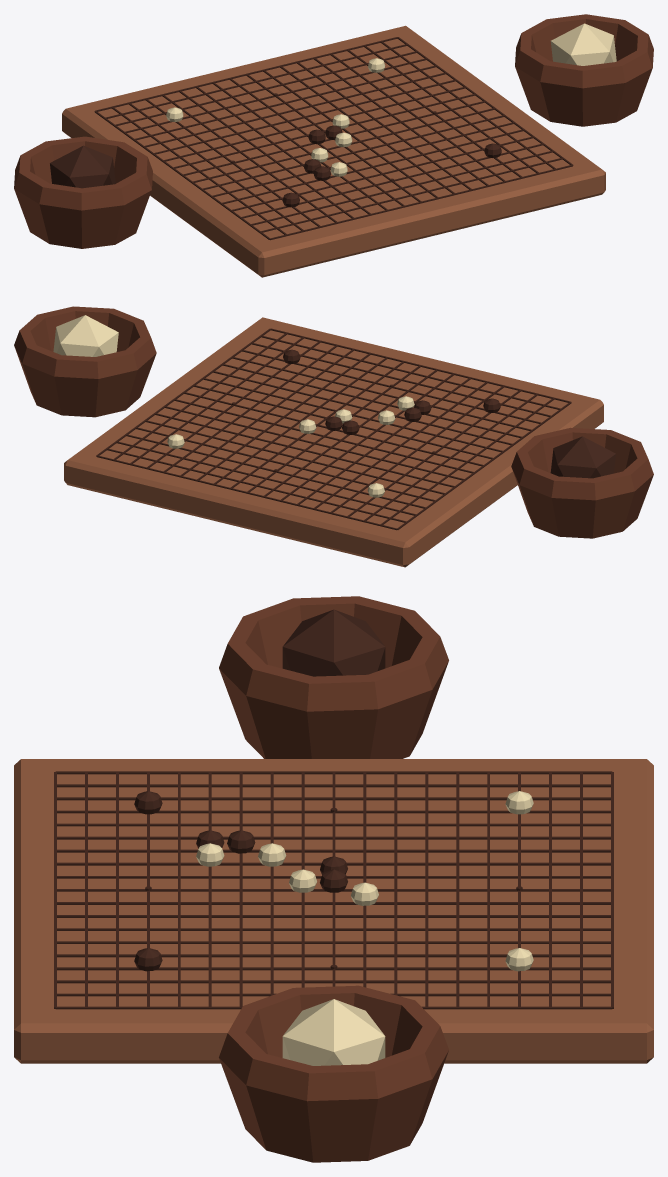
Rendered from go_board.glb.
3 views of the same model, one above another, from view 1: azimuth 30°, elevation 25°; view 2: azimuth 150°, elevation 25°; view 3: azimuth 270°, elevation 25° (orthographic). The views are drawn at different scales.
Visible parts, largest first — view 1: Board, N_19x19Grid, Bowl, Bowl_001, Reserve, Reserve_001; view 2: Board, N_19x19Grid, Bowl_001, Bowl, Reserve_001, Reserve; view 3: Board, N_19x19Grid, Bowl_001, Bowl, Reserve, Reserve_001.
Part boxes in pixels (x1,y1,x2,y2): Board: [62, 25, 605, 277]; N_19x19Grid: [94, 37, 573, 240]; Bowl: [14, 136, 152, 248]; Bowl_001: [515, 14, 653, 126]; Reserve: [50, 145, 115, 188]; Reserve_001: [550, 23, 616, 65]; Board: [64, 317, 603, 567]; N_19x19Grid: [96, 328, 571, 530]; Bowl_001: [14, 306, 156, 417]; Bowl: [511, 427, 653, 538]; Reserve_001: [53, 315, 118, 356]; Reserve: [550, 436, 615, 478]; Board: [14, 759, 653, 1063]; N_19x19Grid: [54, 771, 613, 1009]; Bowl_001: [219, 985, 448, 1162]; Bowl: [219, 596, 448, 758]; Reserve: [282, 609, 385, 676]; Reserve_001: [282, 999, 385, 1065].
Size of the model in its own units: 1.29 by 0.158 by 0.72.
